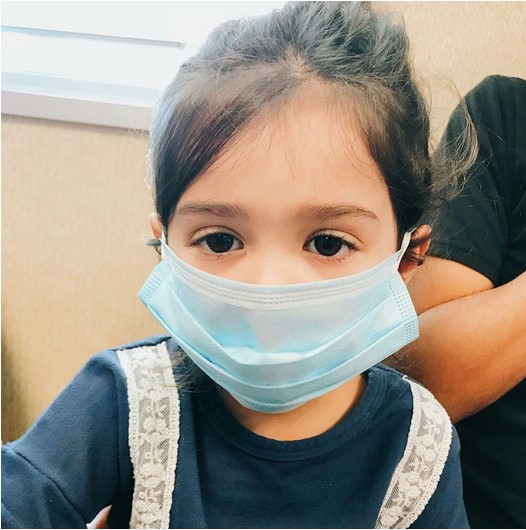face_with_mask: (141, 26, 433, 415)
